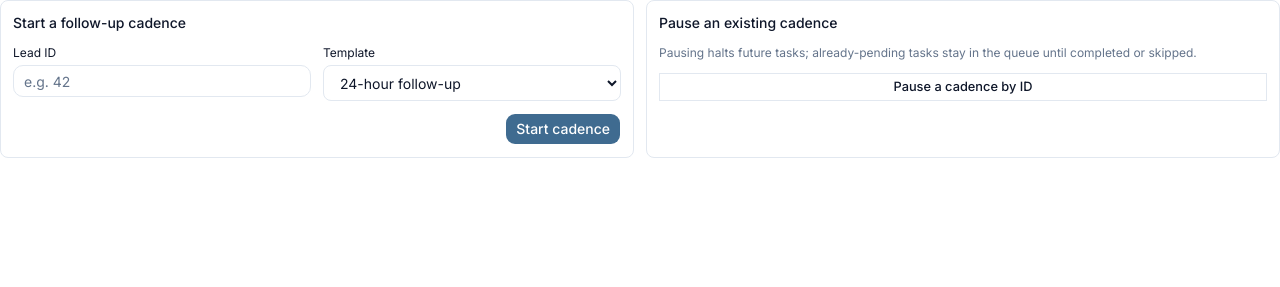
CreateCadenceForm › creates a cadence and reflects it in the recent list
Type "55" into the number field with test id "create-cadence-lead-id" at (162, 81), box [13,65,311,97]
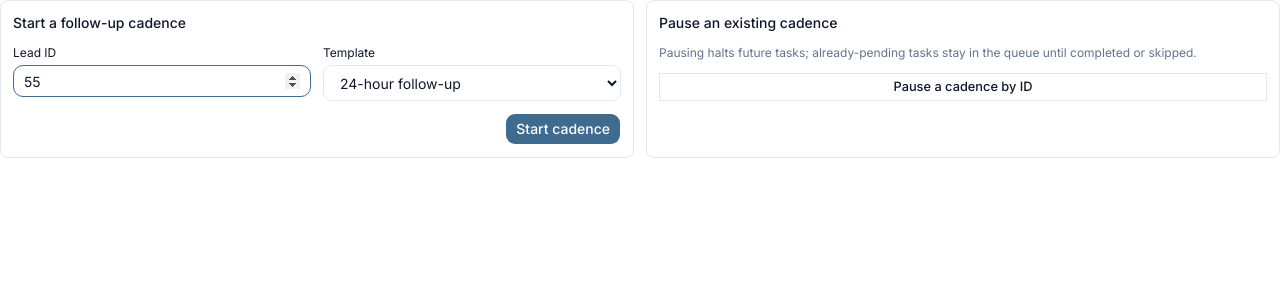
Select "1-week follow-up" in the dropdown with test id "create-cadence-template" at (472, 83), box [323,65,621,101]
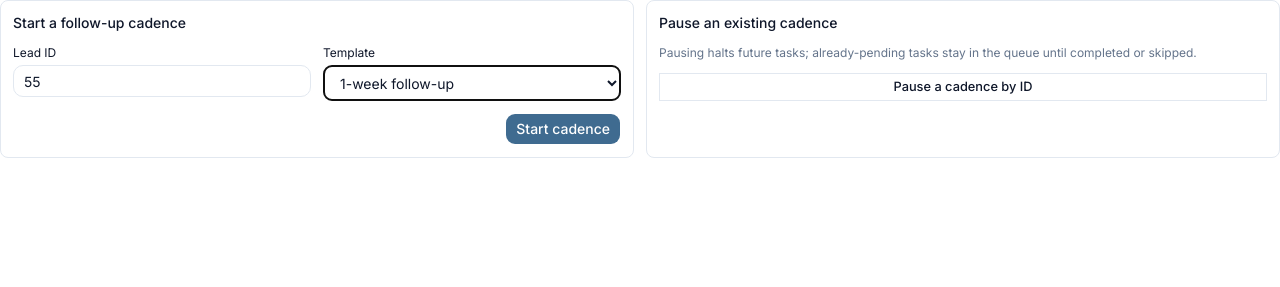
Click the button with test id "create-cadence-submit" at (563, 129), box [505,113,621,145]
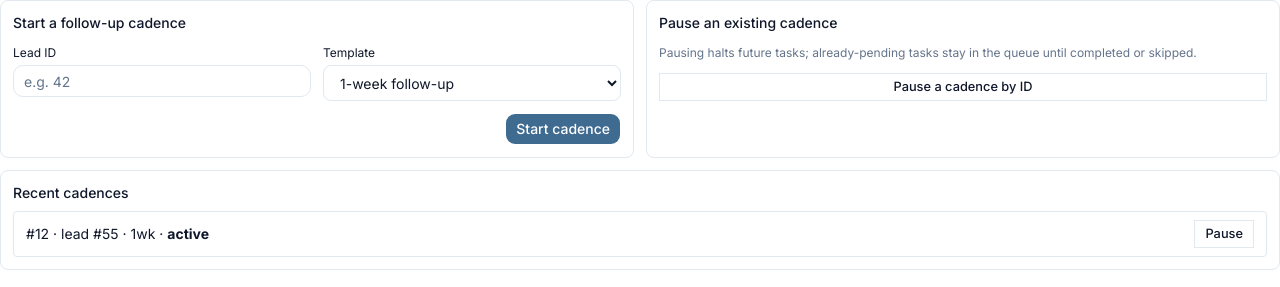
Now the element with test id "cadence-config-recent" is shown, box [0,170,1279,270]
Now the text with test id "cadence-state-12" reads "active", box [167,225,209,242]
